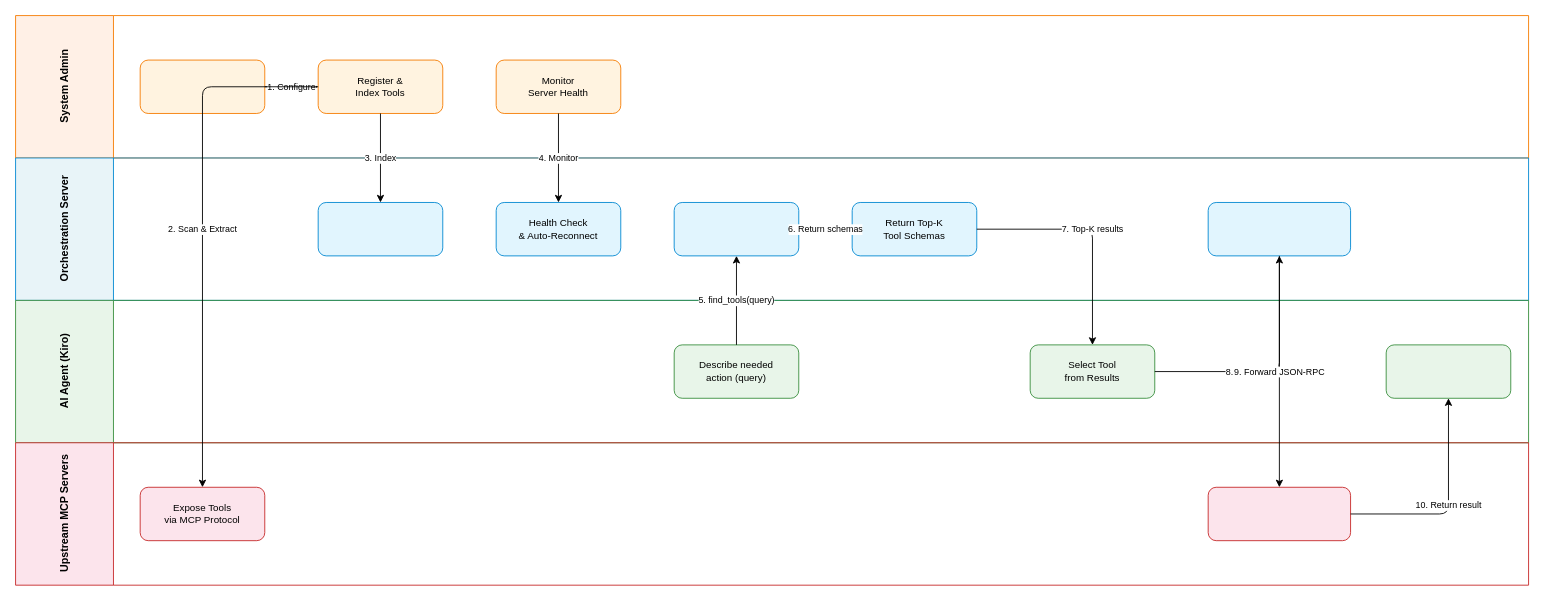
The diagram is 1544 pixels wide and 601 high, and some of its shapes have lost their labels. The centre of each missing label's shape, as x and y in pixels:
Configure MCP Servers: point 202,86
Execute Tool & Return Result: point 1279,513
Receive Execution Result: point 1448,371
Route to Upstream Server (execute_dynamic_tool): point 1279,229
Semantic Search (find_tools): point 736,229
Vectorize & Store in Vector DB: point 380,229
